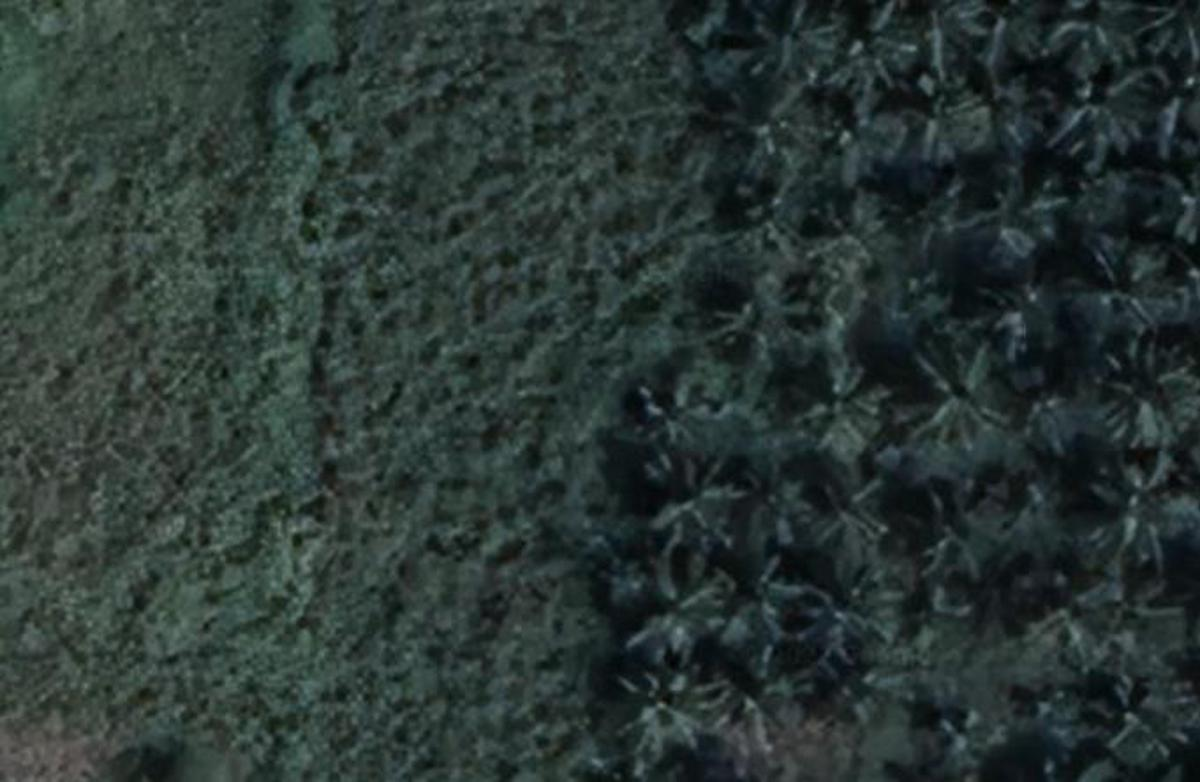coconut: (1081, 234, 1200, 346), (616, 667, 745, 766), (895, 475, 1018, 577), (622, 558, 731, 663), (729, 77, 840, 179), (796, 357, 893, 470), (905, 343, 1007, 447), (1085, 473, 1200, 563), (1011, 560, 1110, 662), (1101, 346, 1198, 450), (1046, 70, 1159, 158), (655, 443, 734, 556), (720, 642, 803, 748), (977, 162, 1069, 257), (1103, 667, 1189, 764), (895, 70, 985, 162), (741, 3, 844, 82), (1092, 561, 1187, 646), (828, 0, 921, 86), (981, 73, 1064, 169), (815, 644, 903, 734), (738, 167, 808, 276), (731, 464, 815, 553), (731, 554, 810, 648), (803, 473, 888, 560), (814, 575, 900, 658), (831, 79, 903, 172), (914, 1, 1002, 73), (807, 186, 888, 264), (643, 375, 724, 450), (1057, 3, 1141, 65), (1154, 0, 1200, 77)
